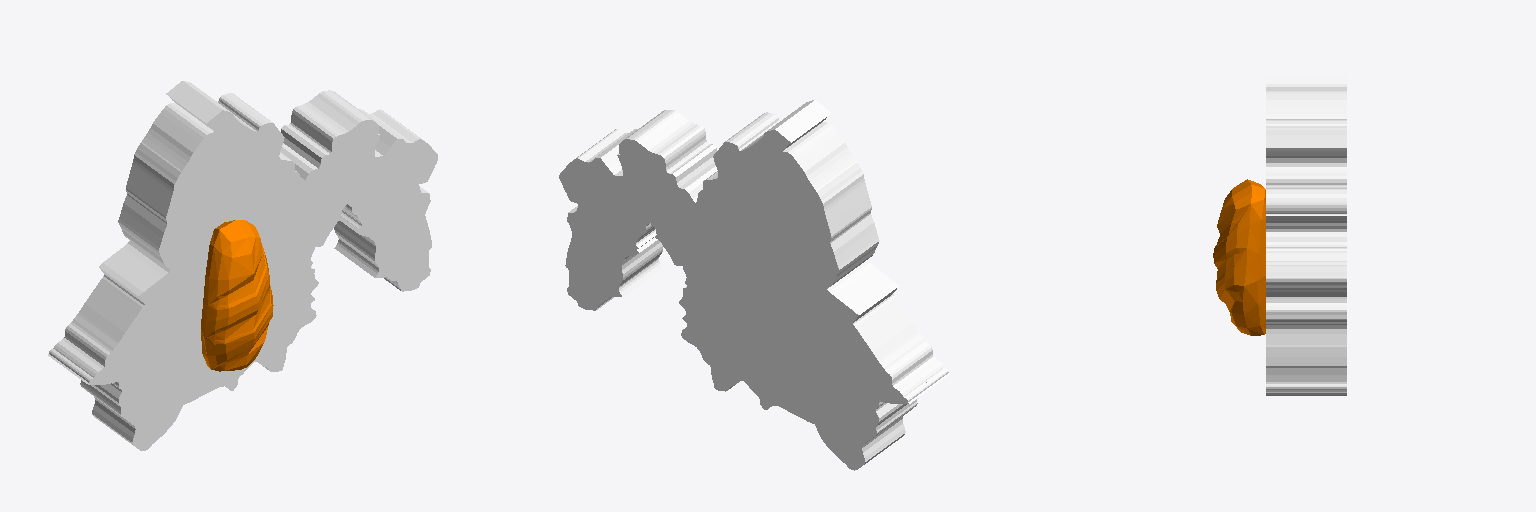
Rendered from EstadoDeMexico.obj.
3 renders of one model, left to right at view 1: azimuth 30°, elevation 25°; view 2: azimuth 150°, elevation 25°; view 3: azimuth 270°, elevation 25°, orthographic.
Visible parts, largest first — view 1: group_0_971116 group1, group1 Mesh; view 2: group_0_971116 group1; view 3: group_0_971116 group1, group1 Mesh.
Boxes of the visible parts, <box> form: group_0_971116 group1: <box>48,81,437,450</box>; group1 Mesh: <box>201,220,273,371</box>; group_0_971116 group1: <box>559,100,949,470</box>; group_0_971116 group1: <box>1266,75,1346,395</box>; group1 Mesh: <box>1213,179,1265,335</box>.
Size of the model in its own units: 18.28 by 16.03 by 6.03.